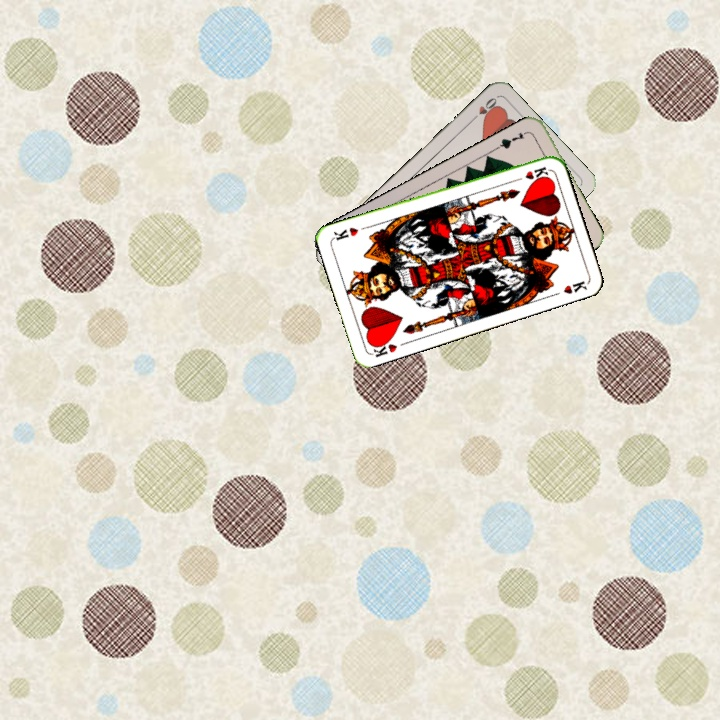G7: (493, 127, 531, 151)
HK: (510, 163, 551, 184), (367, 335, 400, 360)
HO: (467, 93, 499, 125)
